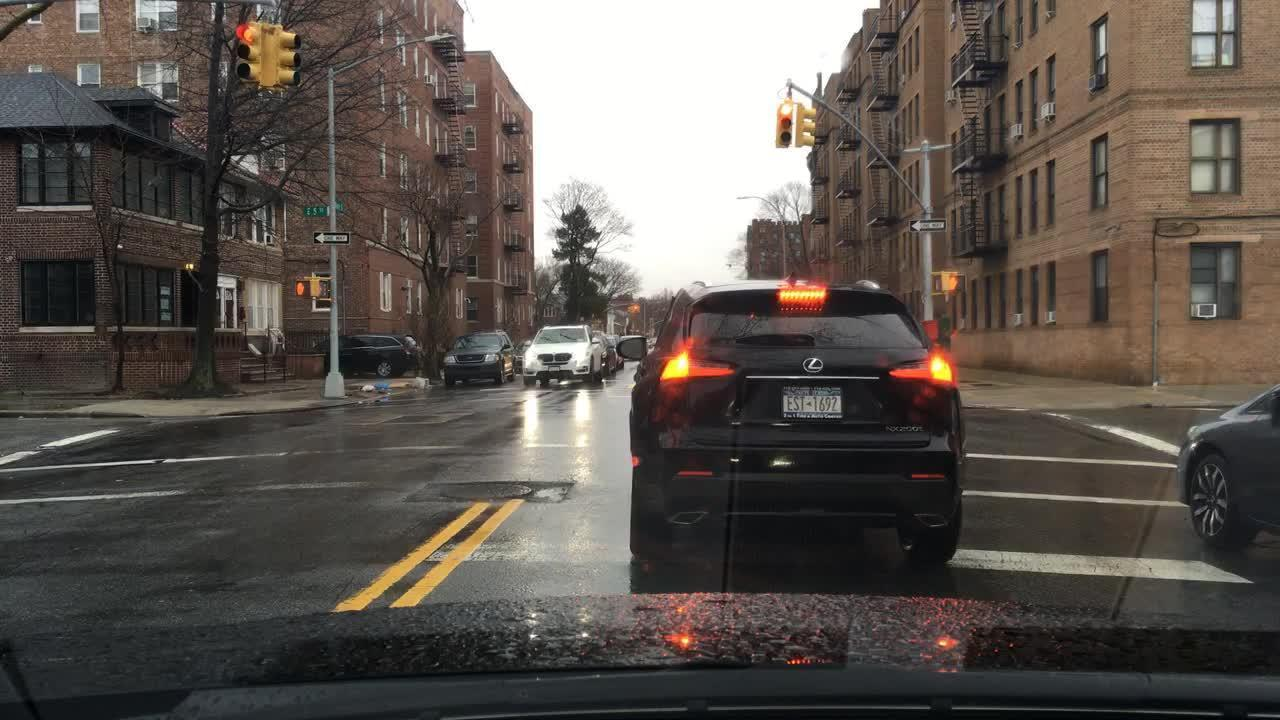lexus: (783, 341, 842, 385)
